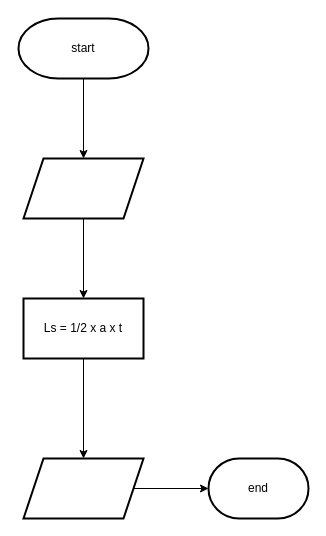
Image size: 326x536. Some labels were removed from this diagram. Here are the shapes that lost their labels. From the top down, the centre of each, then its label:
the point at 83,188: Ls a t
the point at 83,488: Ls
